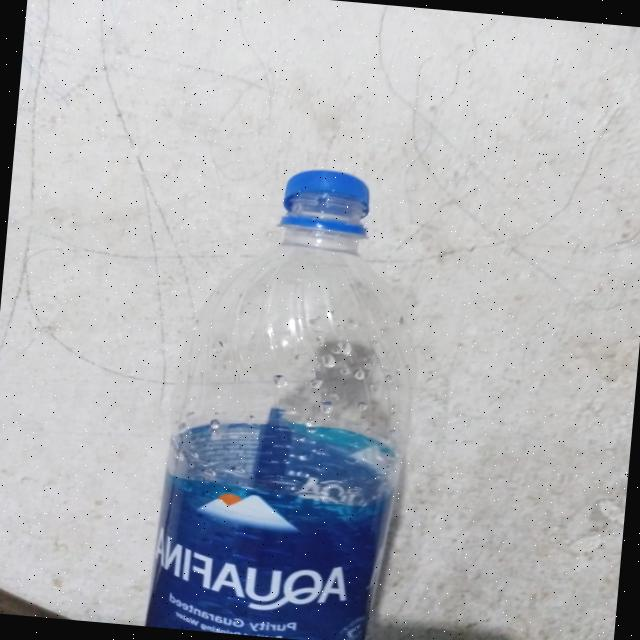bottle: (153, 153, 433, 640)
cap: (259, 163, 386, 252)
label: (151, 462, 403, 640)
